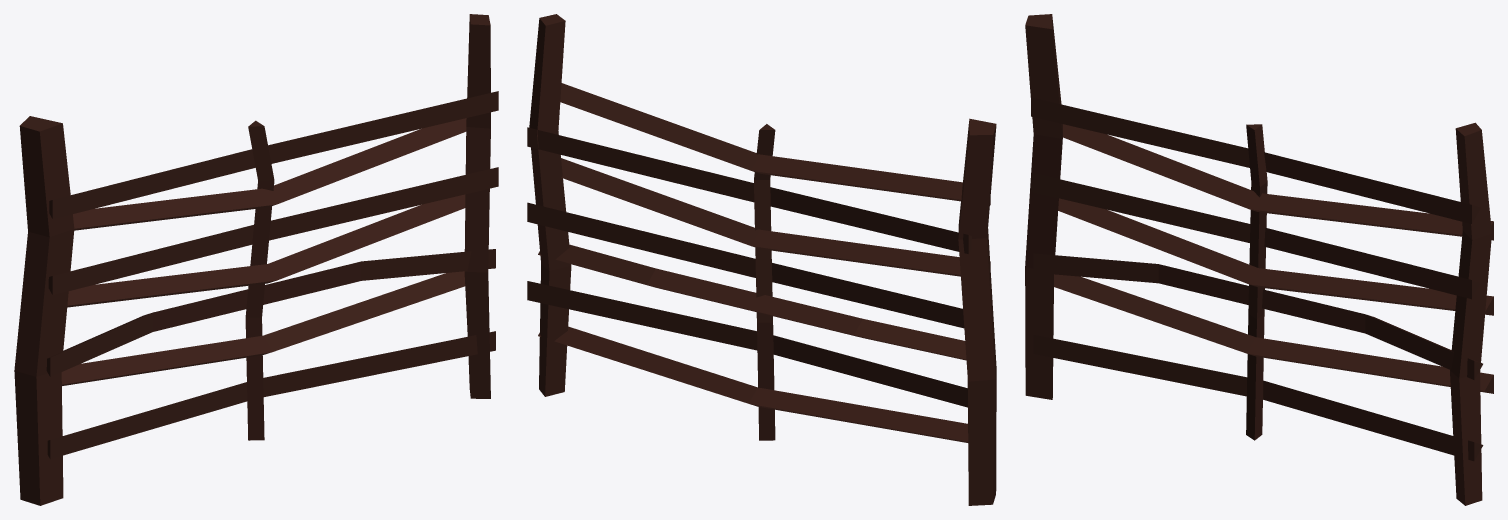
The model's file is 1m_StrongWattleFence.fbx.
3 views of the same model, side by side, from view 1: azimuth 30°, elevation 25°; view 2: azimuth 150°, elevation 25°; view 3: azimuth 330°, elevation 25° (orthographic).
Parts seen in each view (by area): view 1: 1m_StrongWattleFence; view 2: 1m_StrongWattleFence; view 3: 1m_StrongWattleFence.
Boxes of the visible parts, x1,y1,x2,y2 form: 1m_StrongWattleFence: (14, 14, 498, 505); 1m_StrongWattleFence: (527, 14, 996, 505); 1m_StrongWattleFence: (1025, 14, 1493, 505).
Size of the model in its own units: 106 by 80.46 by 10.61.
